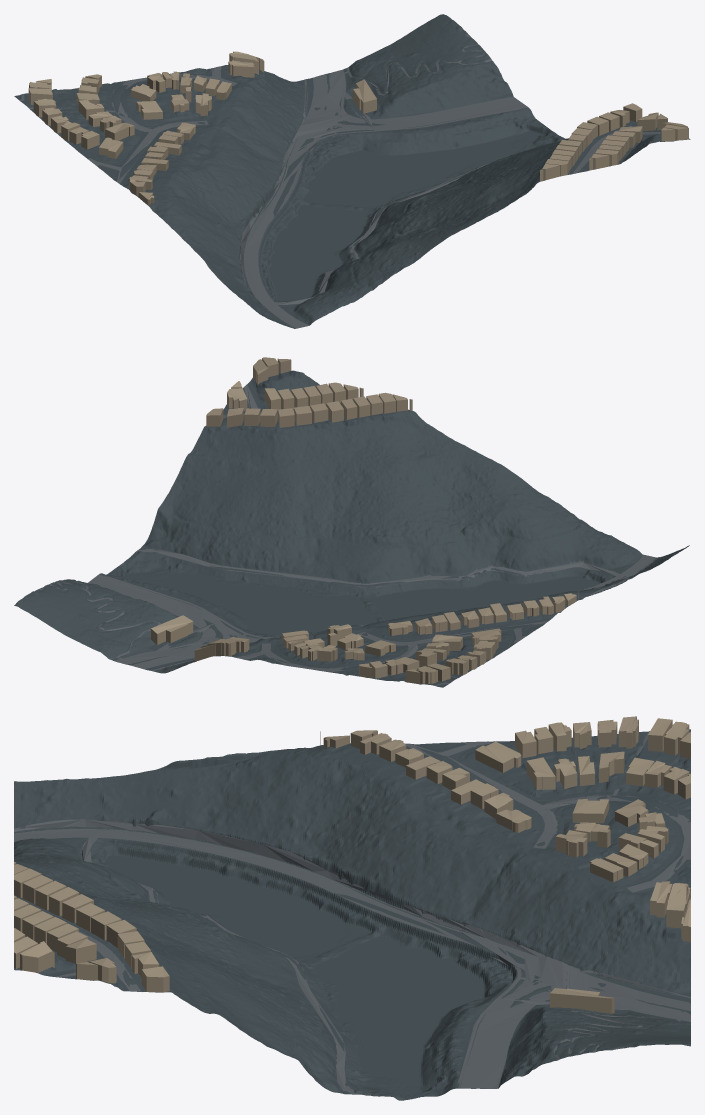
Rendered from epsg26910-1425-10881.lod0.glb.
3 renders of one model, top to bottom at view 1: azimuth 30°, elevation 25°; view 2: azimuth 150°, elevation 25°; view 3: azimuth 270°, elevation 25°, orthographic. The views are drawn at different scales.
Parts seen in each view (by area): view 1: epsg26910-1425-10881-lod0; view 2: epsg26910-1425-10881-lod0; view 3: epsg26910-1425-10881-lod0.
Part boxes in pixels (x1,y1,x2,y2): epsg26910-1425-10881-lod0: [14, 14, 690, 328]; epsg26910-1425-10881-lod0: [14, 357, 689, 687]; epsg26910-1425-10881-lod0: [14, 716, 690, 1100].
Bounding box in the file's own units: 384 × 98.25 × 384.
